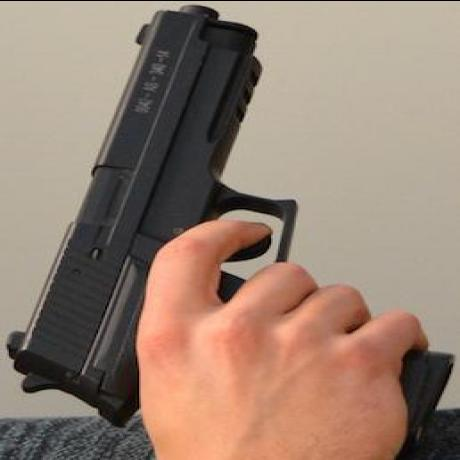1: (132, 216, 431, 460)
weapon: (0, 4, 256, 420)
